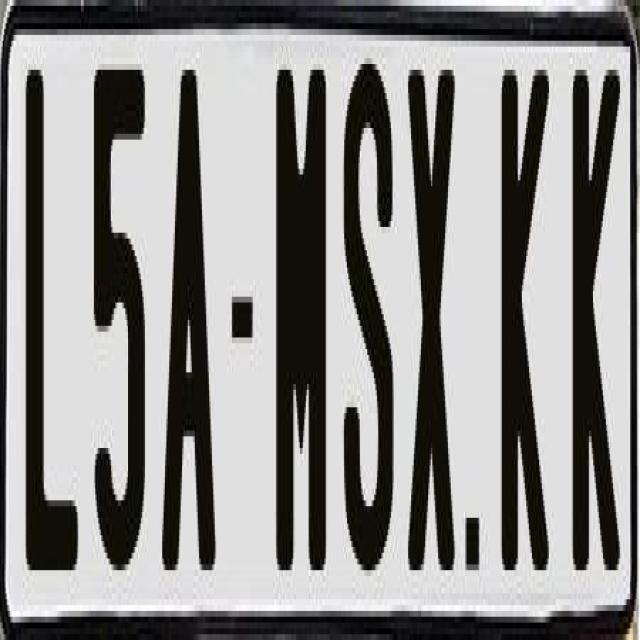5: (92, 70, 148, 606)
A: (162, 70, 218, 600)
K: (502, 70, 553, 600), (572, 64, 616, 588)
L: (24, 58, 77, 570)
M: (273, 70, 329, 606)
S: (342, 64, 392, 582)
X: (406, 58, 452, 559)
